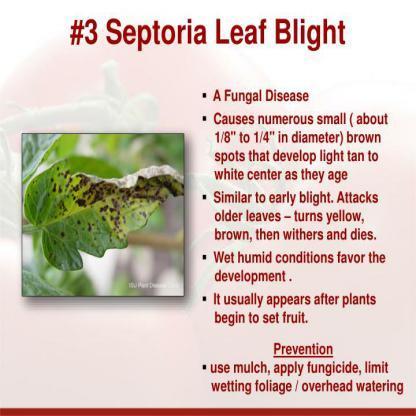Tomato Septoria leaf spot: (28, 161, 182, 280)
